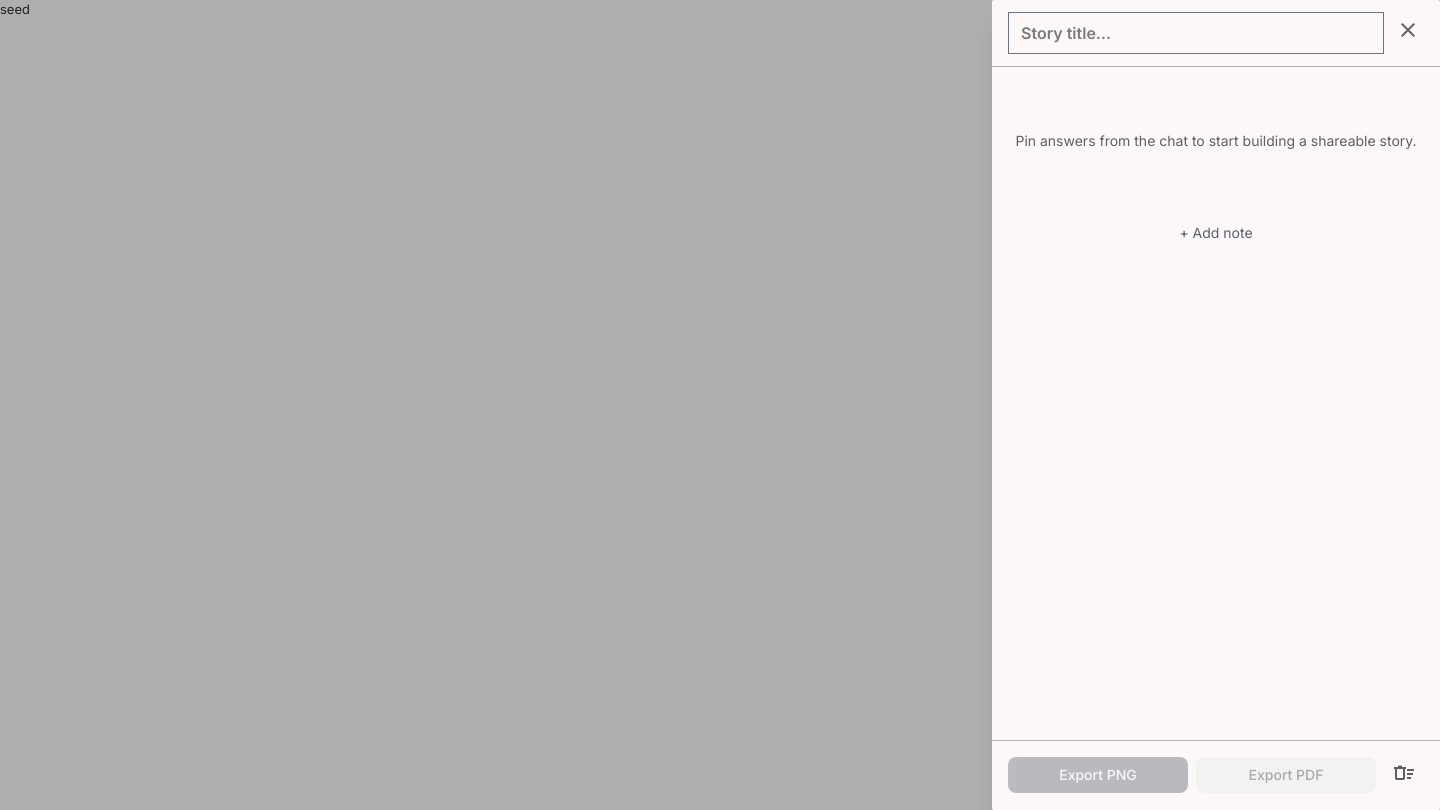
Scenario: StoryCanvasPanel › adds a note block from the panel
Click the button "+ Add note" at x=1216, y=233, box [1008,215,1424,251]
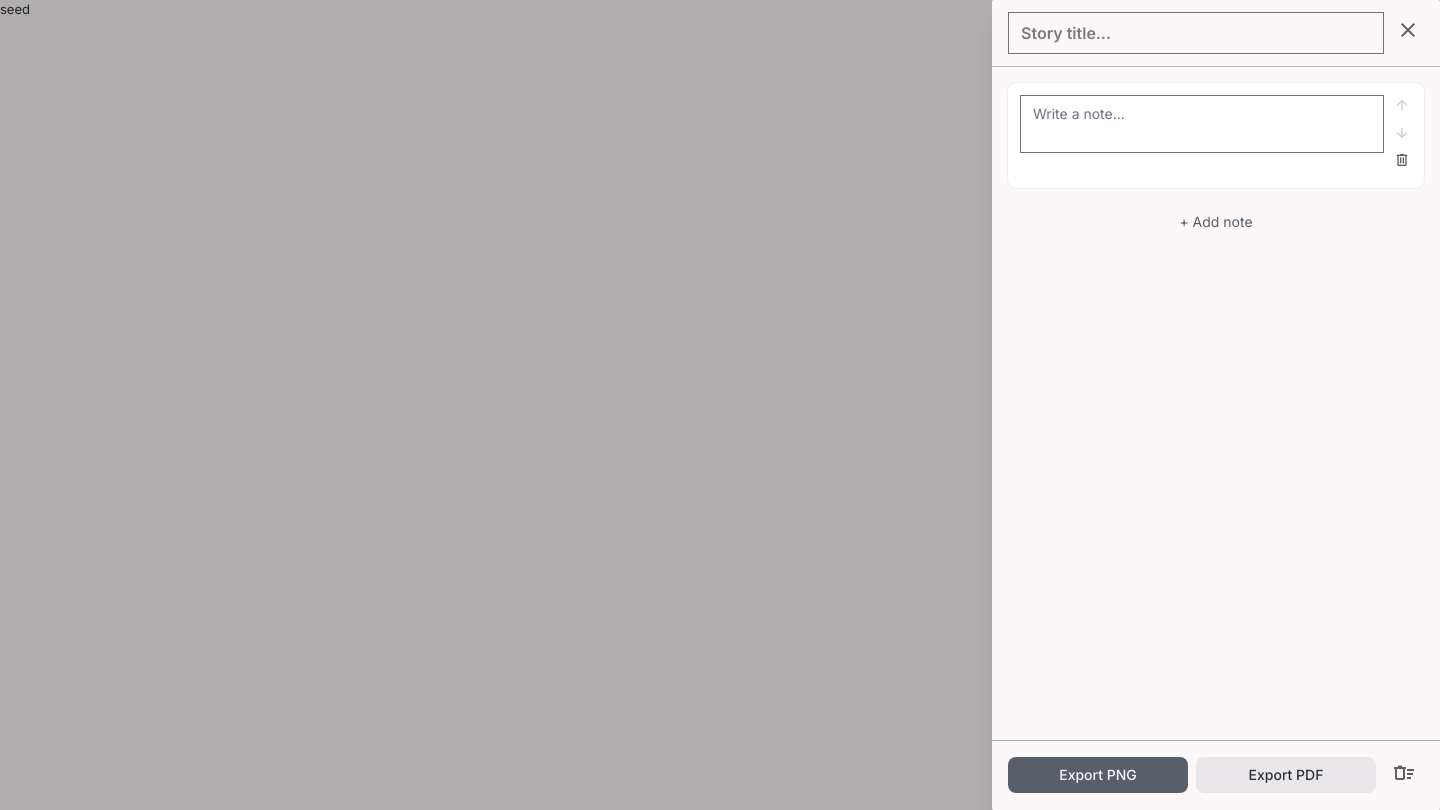
Check: the text box with placeholder "Write a note…" is shown, box [1020,95,1384,153]
